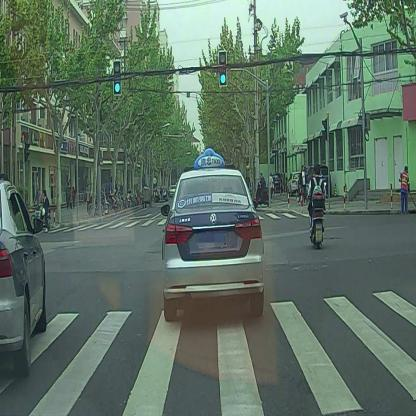Green Light: (218, 49, 228, 89), (113, 59, 122, 94)
